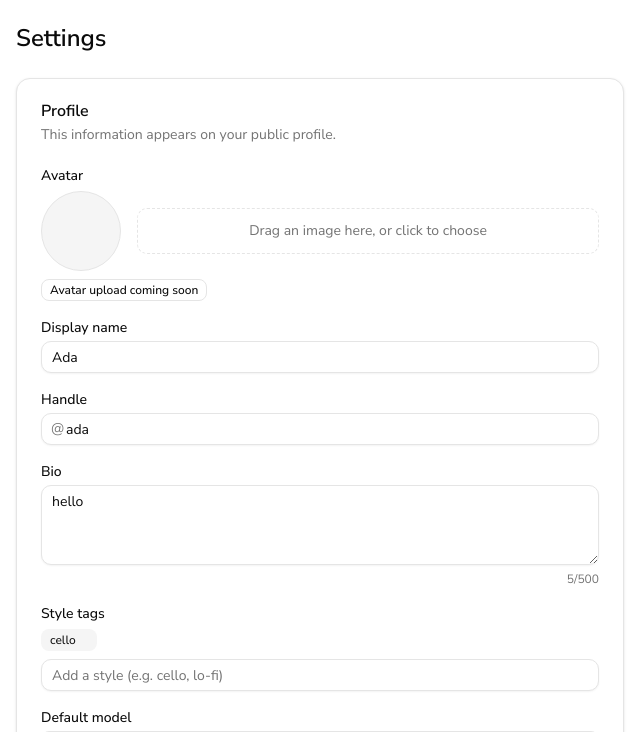
Test: SettingsPage › saves changed fields and shows a success message
The image size is (641, 732).
Replace the text in the field labelled "Display name" with "Ada L" at (320, 357), box [41,341,599,373]
(page scrolled)
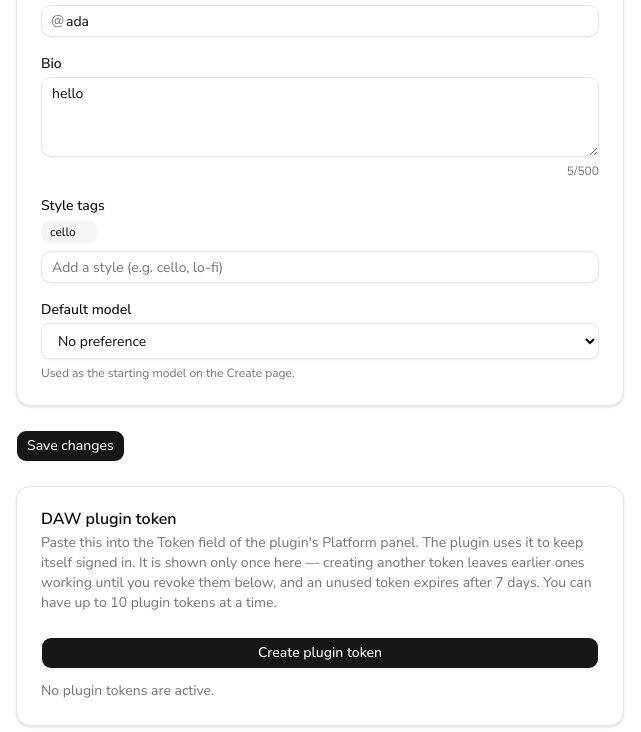
Click the button "Save changes".
click(70, 446)  # box [16,430,125,462]
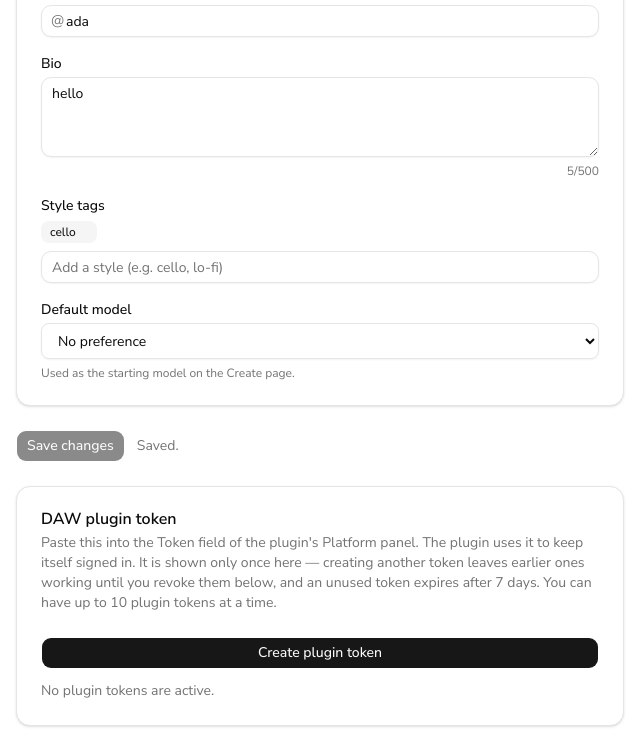
Result: the message reads "Saved." at [137,436,179,455]
